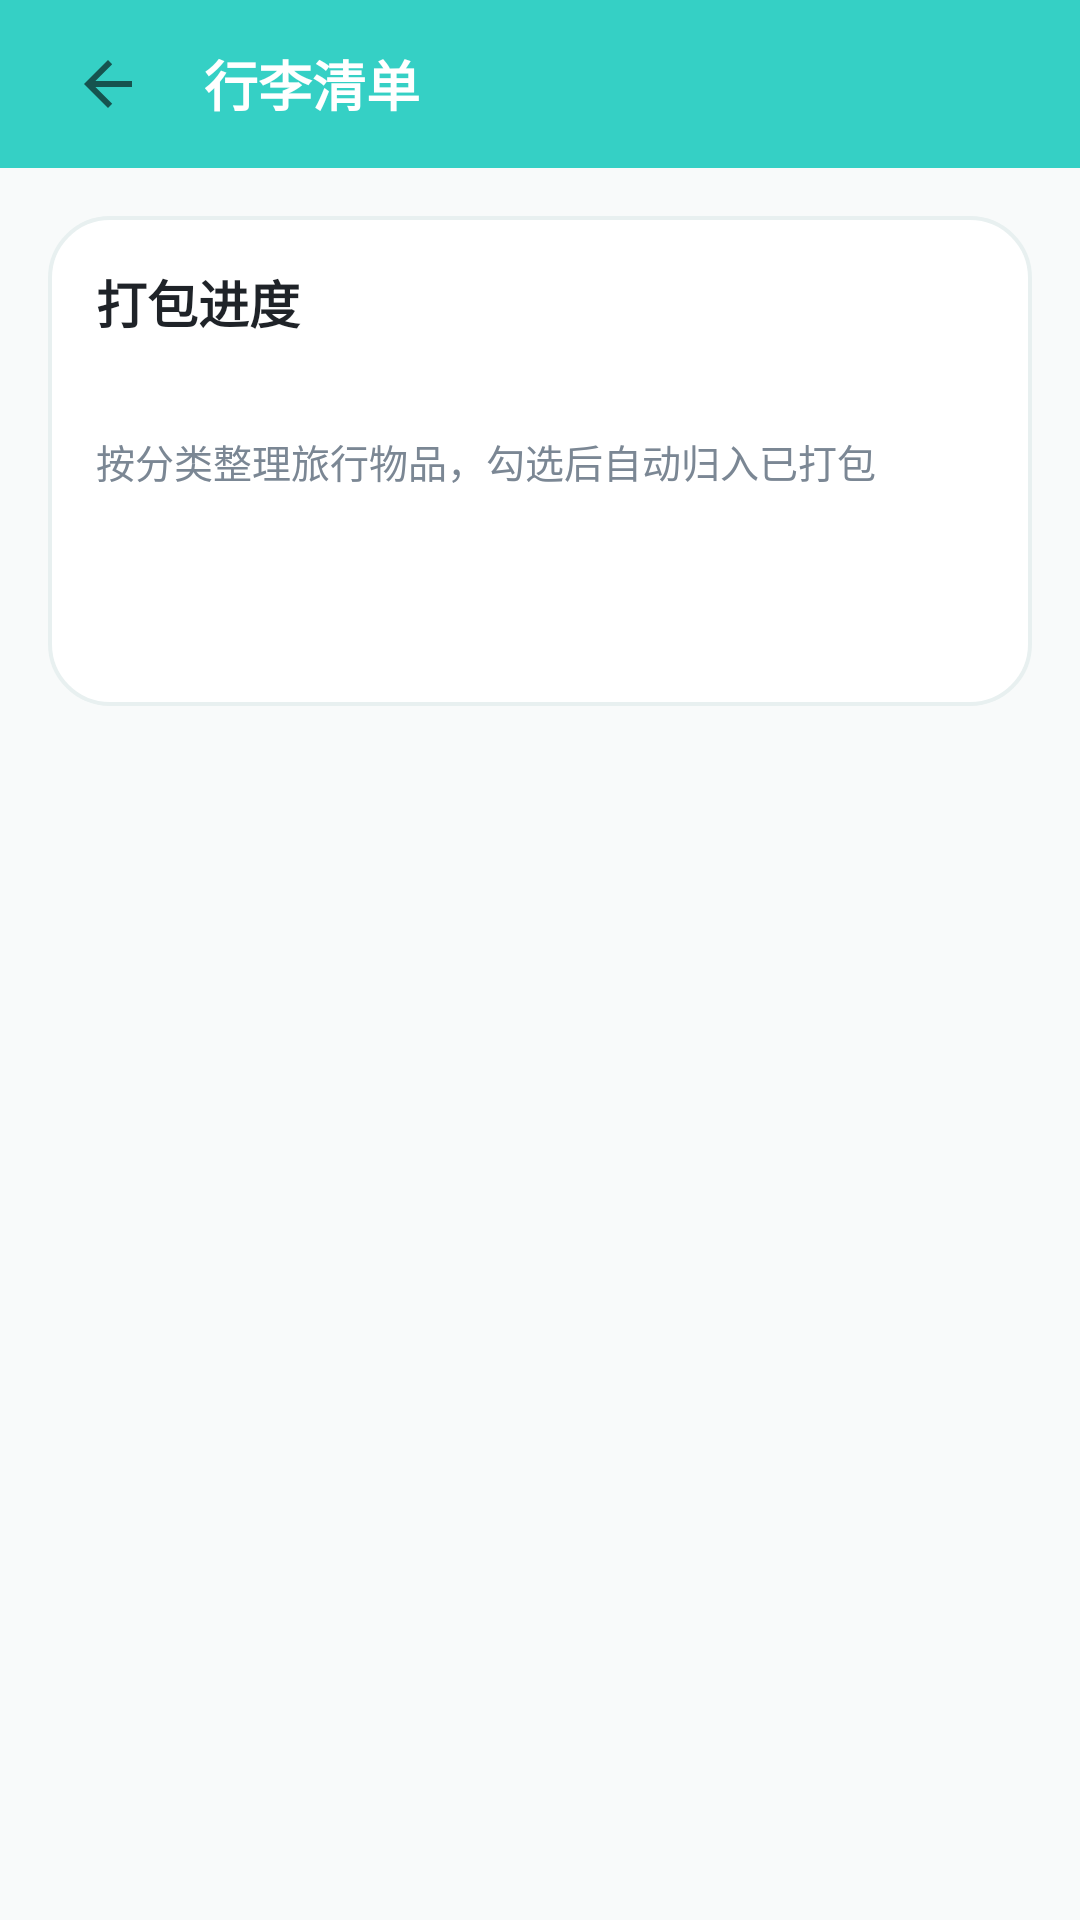

Where to tap for icons on this 1080 x 1920 app screen, as (x=x, y=y):
返回: (x=108, y=84)
